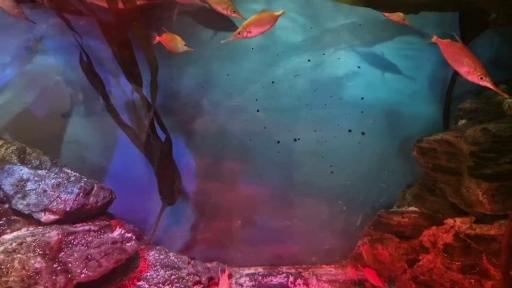Fish: (431, 34, 509, 98), (221, 9, 285, 43), (353, 49, 414, 81), (0, 36, 43, 72), (179, 8, 238, 34), (152, 28, 194, 53), (173, 0, 209, 23), (0, 0, 35, 23), (205, 0, 246, 19), (359, 266, 384, 287), (382, 12, 410, 25), (362, 245, 378, 267), (174, 0, 209, 7), (219, 267, 231, 287), (347, 265, 359, 281), (86, 0, 108, 8)
